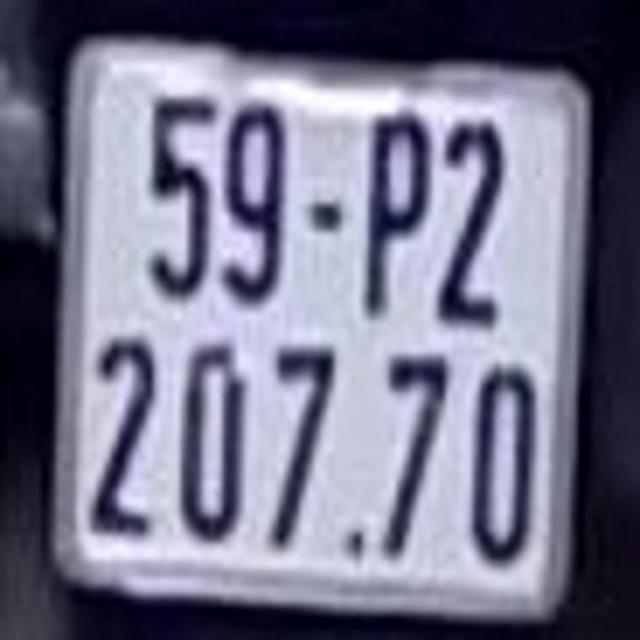0: (180, 346, 246, 541), (473, 360, 530, 563)
2: (91, 342, 153, 532), (446, 117, 501, 330)
5: (142, 97, 209, 298)
7: (380, 348, 448, 558), (269, 346, 335, 553)
9: (222, 109, 282, 314)
P: (357, 110, 440, 324)
